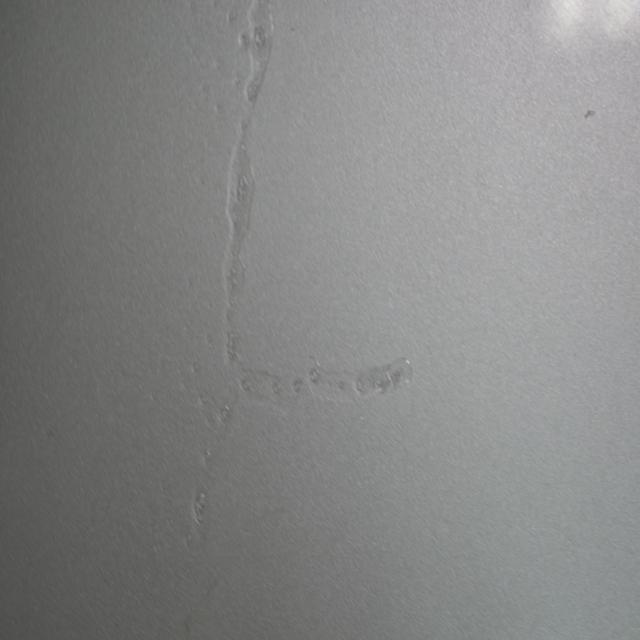runs: (190, 8, 417, 539)
